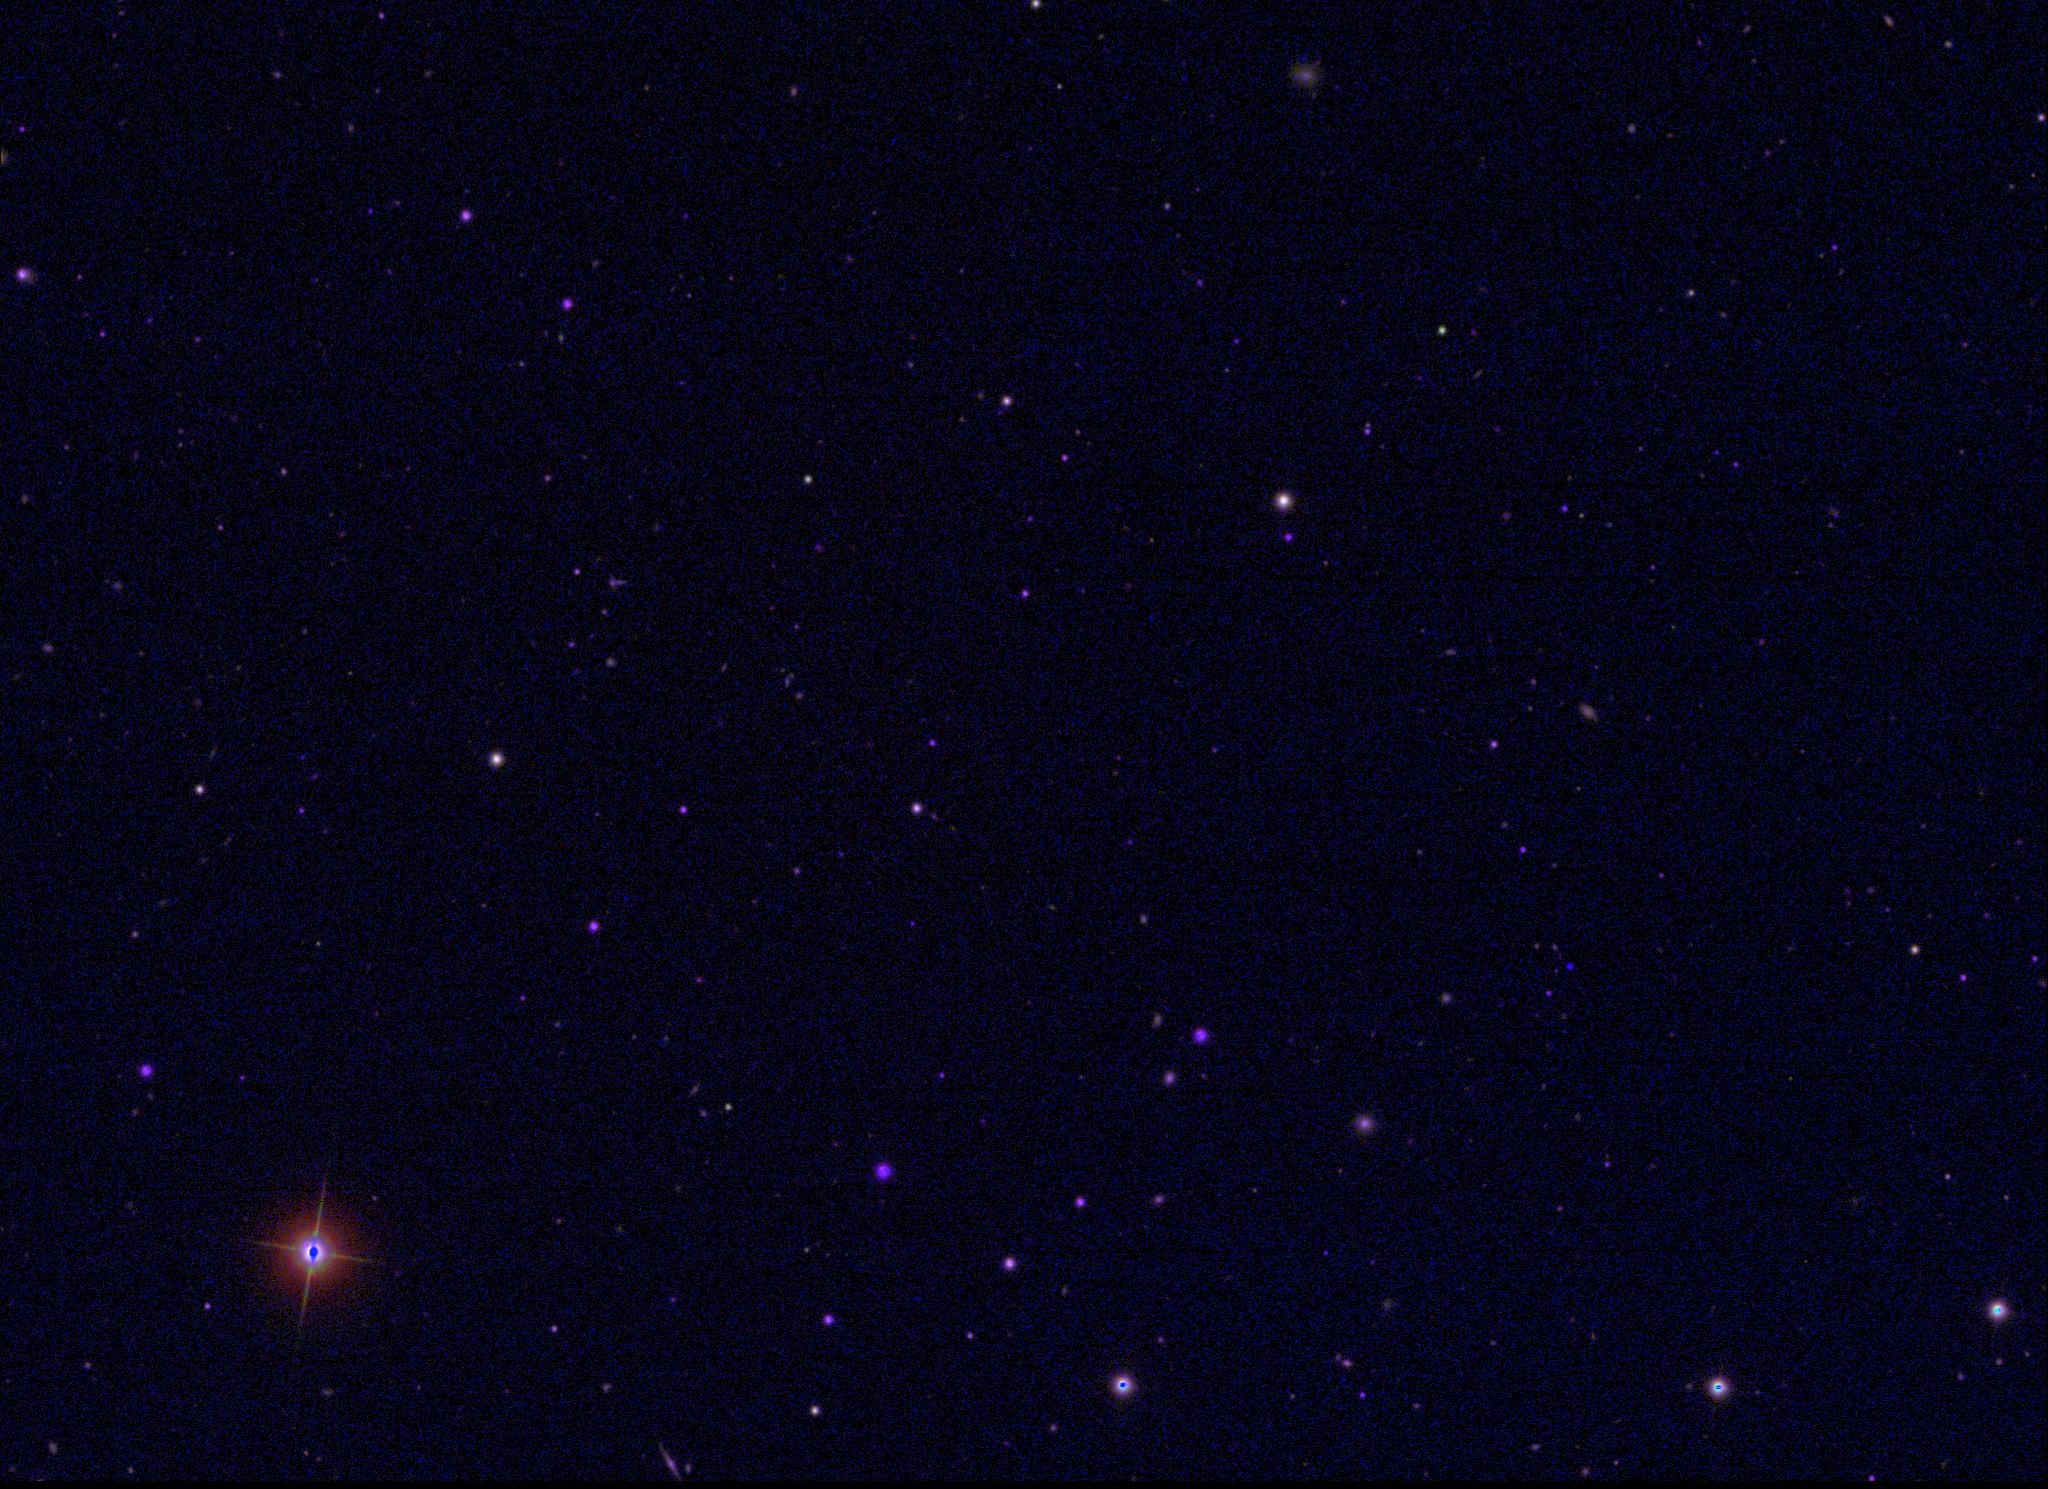L: (1565, 959, 1579, 974)
